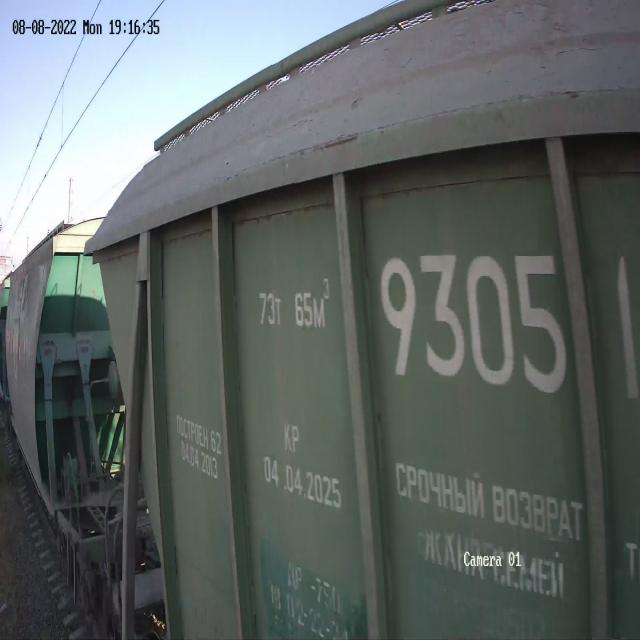hopper: (82, 0, 640, 640), (2, 205, 124, 526)
